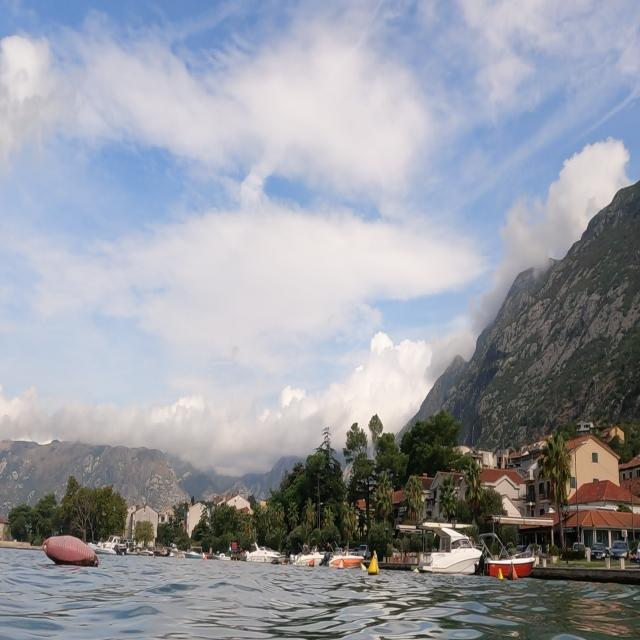boat: (414, 517, 502, 592), (237, 530, 283, 577), (328, 539, 372, 577), (289, 536, 329, 574)
buoy: (35, 524, 107, 576), (367, 551, 385, 582)
